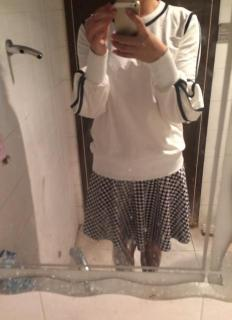long sleeve top: (70, 1, 205, 181)
skirt: (83, 163, 193, 252)
